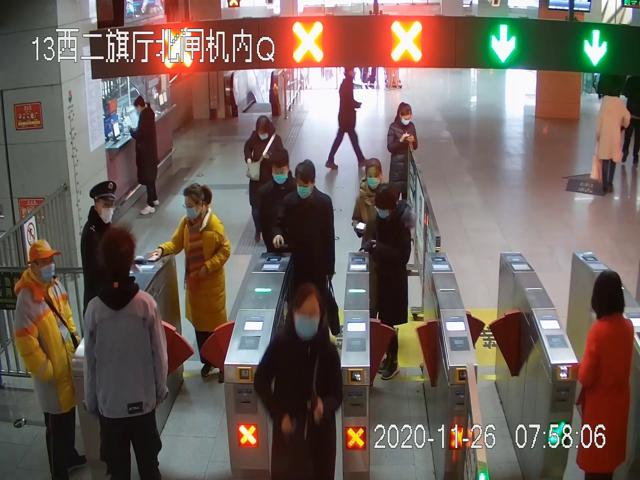person: (82, 226, 169, 478), (254, 285, 344, 479), (15, 237, 82, 480), (167, 174, 233, 384), (579, 266, 632, 477), (368, 191, 410, 380), (77, 177, 128, 316), (281, 161, 336, 273), (243, 115, 285, 234), (592, 75, 629, 200), (328, 66, 367, 172), (130, 99, 164, 216), (260, 157, 296, 248), (387, 100, 422, 191), (350, 156, 394, 194)
